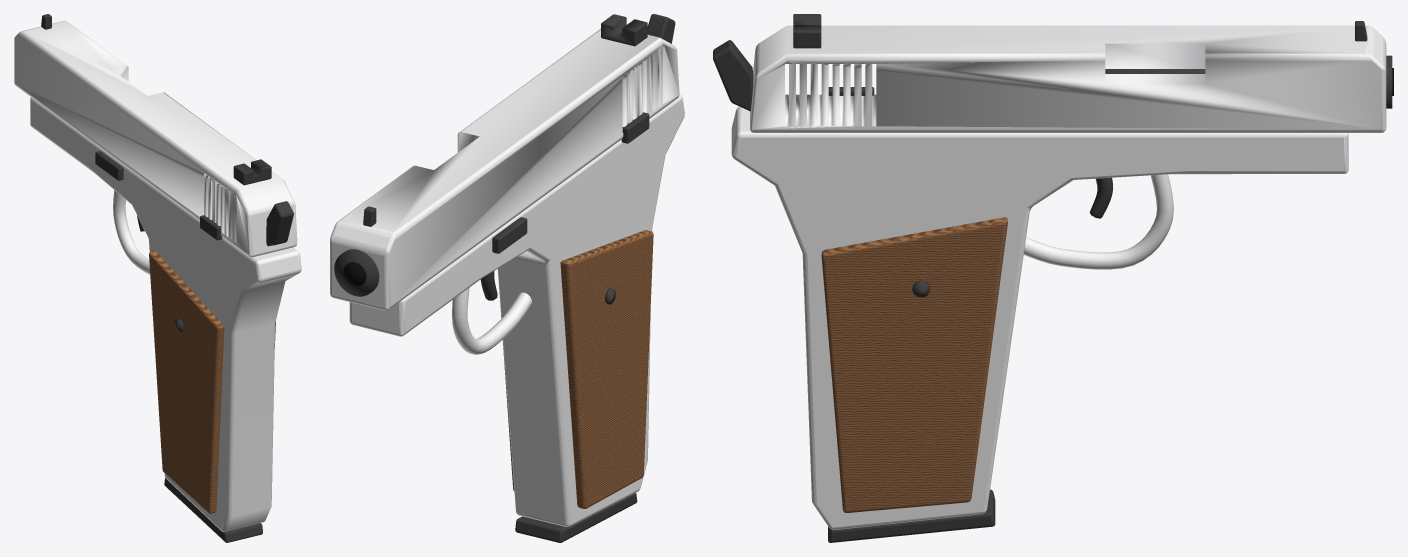
File: Weapon_Pistol.glb
3 renders of one model, left to right at view 1: azimuth 30°, elevation 25°; view 2: azimuth 150°, elevation 25°; view 3: azimuth 270°, elevation 25°, orthographic. The views are drawn at different scales.
Parts seen in each view (by area): view 1: Weapon_Pistol_Game; view 2: Weapon_Pistol_Game; view 3: Weapon_Pistol_Game.
Part boxes in pixels (bbox=[...]): Weapon_Pistol_Game: bbox=[14, 14, 301, 542]; Weapon_Pistol_Game: bbox=[330, 14, 684, 542]; Weapon_Pistol_Game: bbox=[713, 14, 1393, 542].
Size of the model in its own units: 0.0328 by 0.1799 by 0.2182.
Materials: 1 (1 with a texture image).
